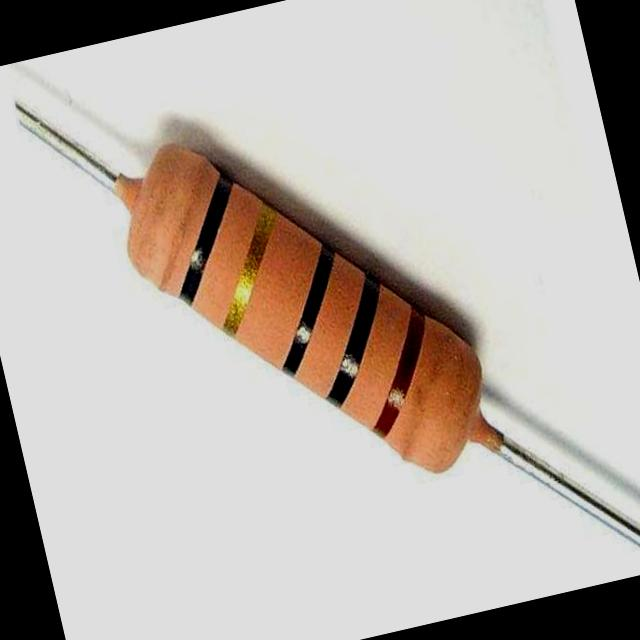Resistor: (116, 146, 502, 472)
black: (327, 271, 381, 408), (282, 244, 336, 377), (182, 171, 234, 305)
brown: (373, 307, 425, 436)
gold: (222, 204, 276, 337)
